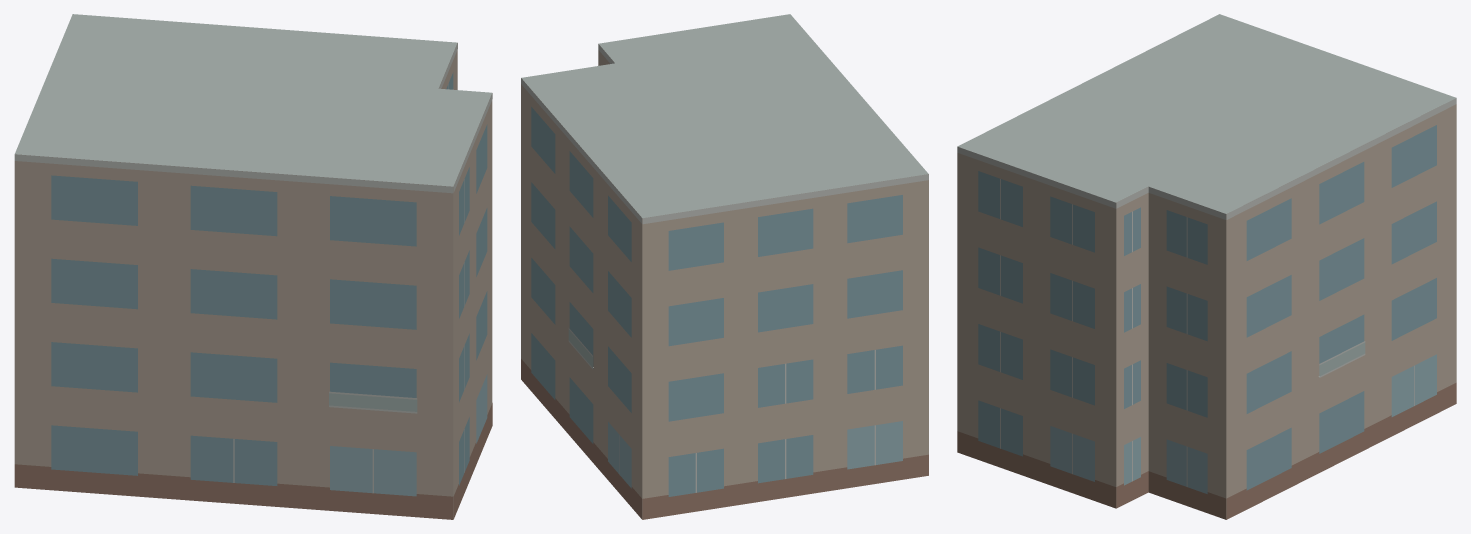
The model's file is residential-ba3f3113-eafa-4e33-bc62-df6f042d975f.glb.
3 renders of one model, left to right at view 1: azimuth 30°, elevation 25°; view 2: azimuth 150°, elevation 25°; view 3: azimuth 270°, elevation 25°, orthographic. The views are drawn at different scales.
Visible parts, largest first — view 1: residential-ba3f3113-eafa-4e33-bc62-df6f042d975f.tmp; view 2: residential-ba3f3113-eafa-4e33-bc62-df6f042d975f.tmp; view 3: residential-ba3f3113-eafa-4e33-bc62-df6f042d975f.tmp.
Boxes of the visible parts, bbox=[...] form: residential-ba3f3113-eafa-4e33-bc62-df6f042d975f.tmp: bbox=[14, 14, 492, 519]; residential-ba3f3113-eafa-4e33-bc62-df6f042d975f.tmp: bbox=[521, 14, 928, 519]; residential-ba3f3113-eafa-4e33-bc62-df6f042d975f.tmp: bbox=[957, 14, 1456, 519].
Size of the model in its own units: 17.13 by 12.2 by 18.07.
